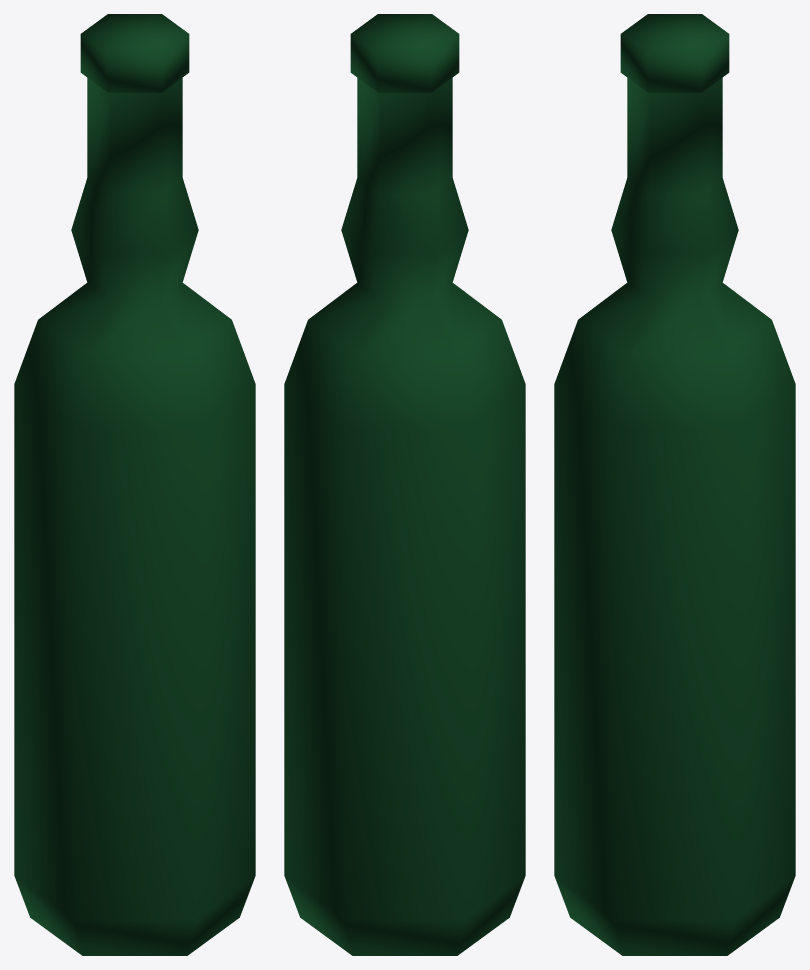
The model's file is wino_s_tastas.glb.
The picture shows the model from 3 angles, left to right: view 1: azimuth 30°, elevation 25°; view 2: azimuth 150°, elevation 25°; view 3: azimuth 270°, elevation 25°; orthographic projection.
Parts seen in each view (by area): view 1: wino_s_tastas; view 2: wino_s_tastas; view 3: wino_s_tastas.
Boxes of the visible parts, x1=… form: wino_s_tastas: x1=14, y1=14, x2=255, y2=955; wino_s_tastas: x1=284, y1=14, x2=525, y2=955; wino_s_tastas: x1=554, y1=14, x2=795, y2=955.
Bounding box in the file's own units: 0.0794 × 0.3702 × 0.0916.
